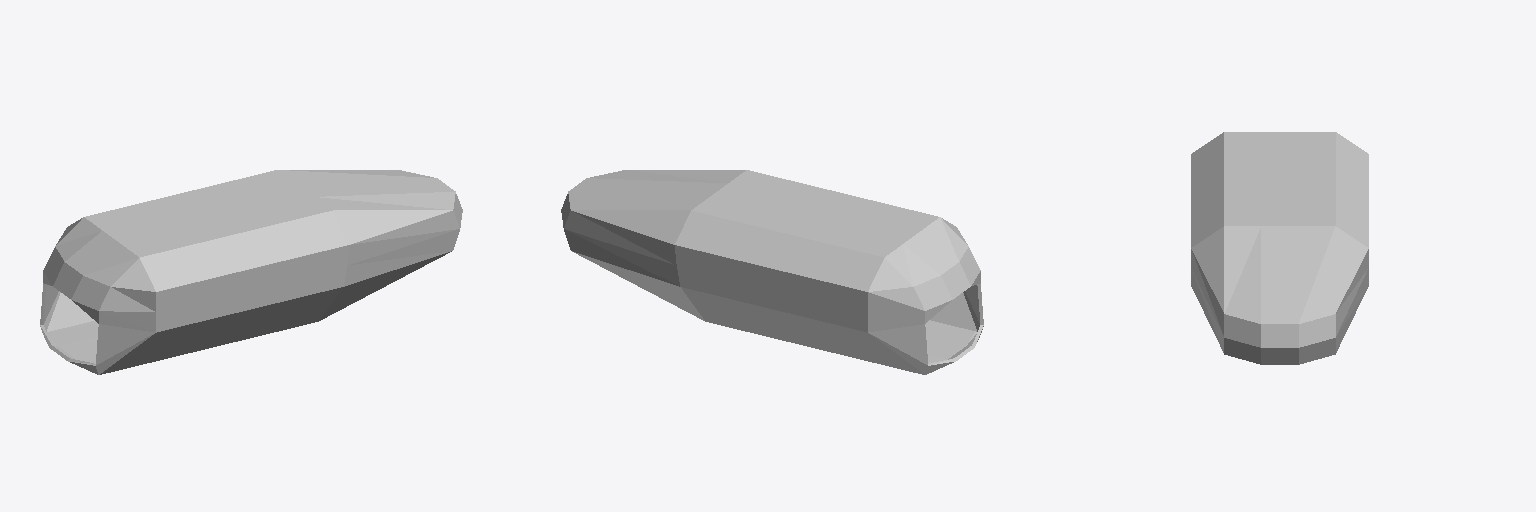
File: ship_exterior.obj
3 views of the same model, side by side, from view 1: azimuth 30°, elevation 25°; view 2: azimuth 150°, elevation 25°; view 3: azimuth 270°, elevation 25° (orthographic).
Visible parts, largest first — view 1: Cube.001; view 2: Cube.001; view 3: Cube.001.
Boxes of the visible parts, <box> form: Cube.001: <box>40,170,462,374</box>; Cube.001: <box>561,170,983,374</box>; Cube.001: <box>1191,132,1368,364</box>.
Bounding box in the file's own units: 27.89 × 7.27 × 10.87.